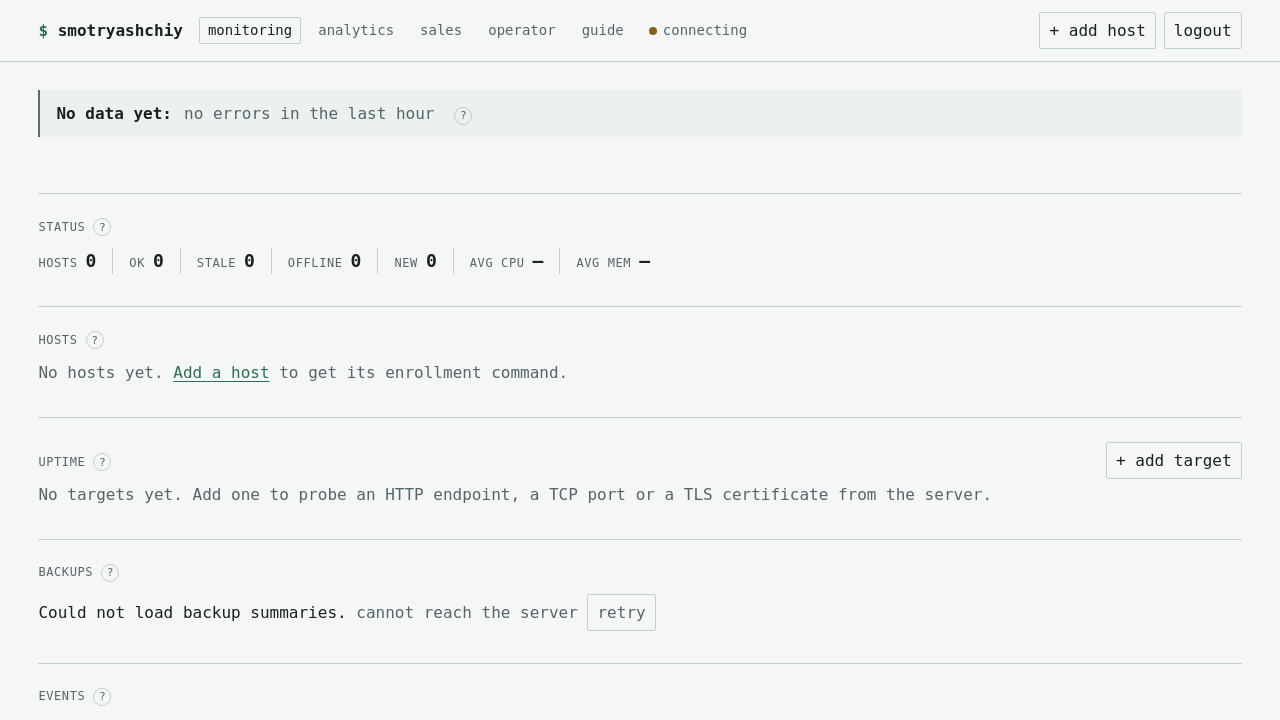
it: AddHostDialog › shows a specific error for a duplicate name and lets the operator retry
The width and height of the screenshot is (1280, 720).
Click the button "+ add host": (1098, 31) [1040,12,1156,49]
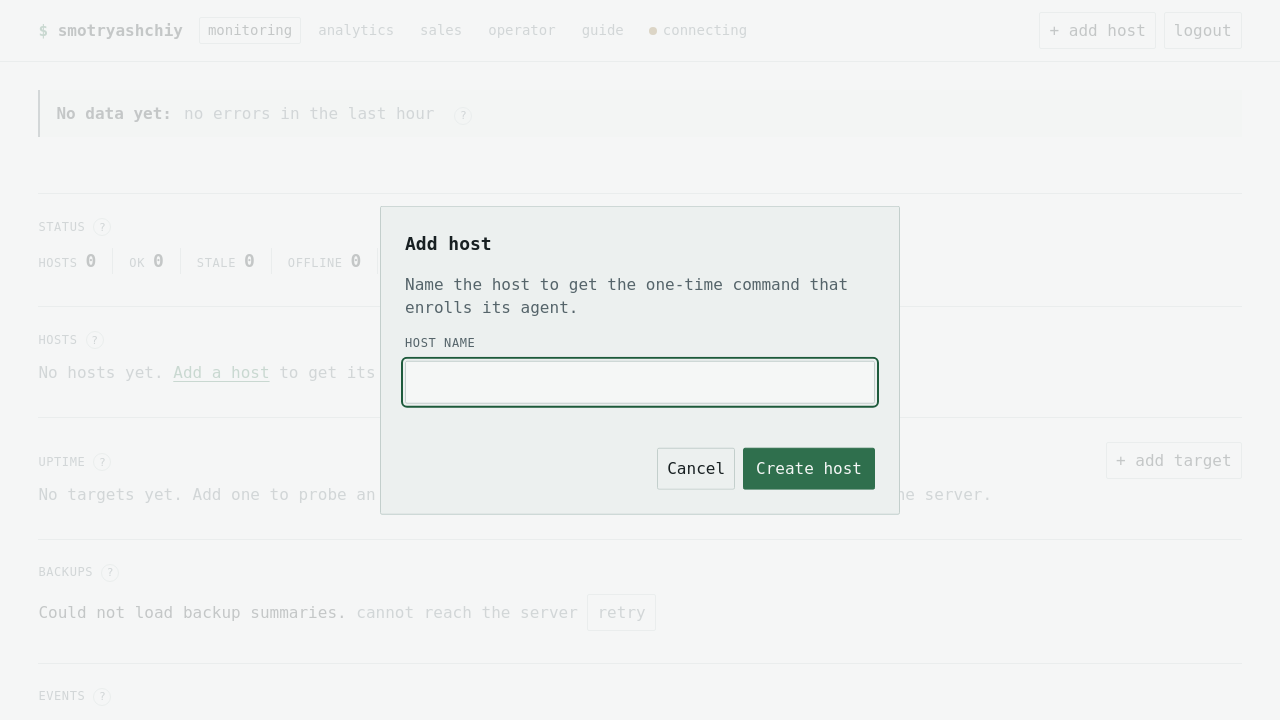
In the field labelled "Host name": (640, 382) [405,361,875,404], type "web-1"
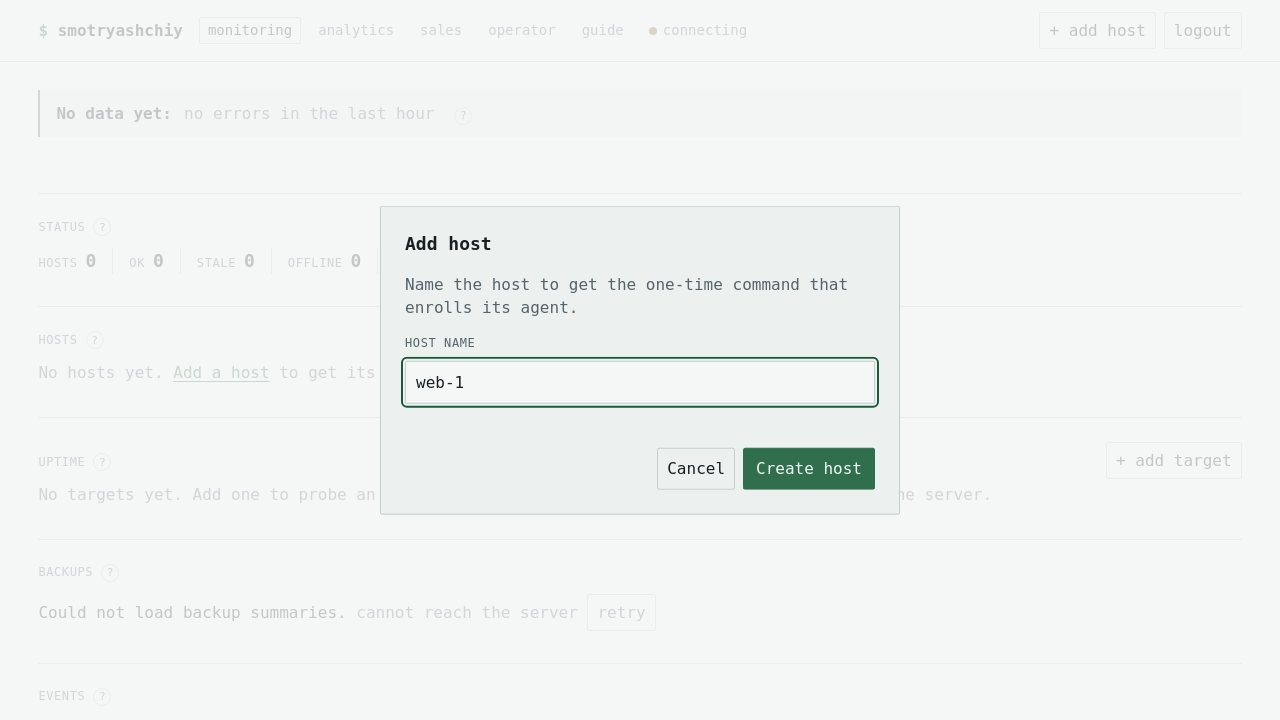
Click the button "Create host": (809, 469) [743,448,875,489]
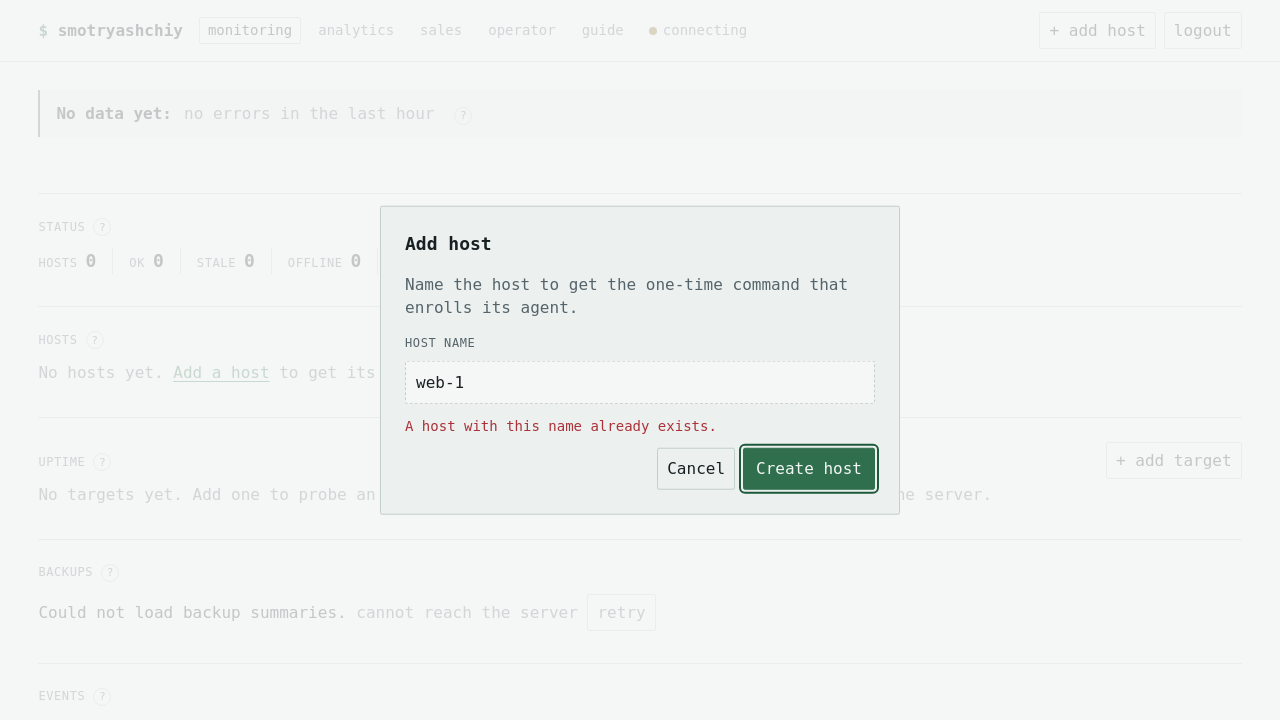
expect the message reads "A host with this name already exists.": met, box [405,418,717,434]
Click the button "Create host": (809, 469) [743,448,875,489]
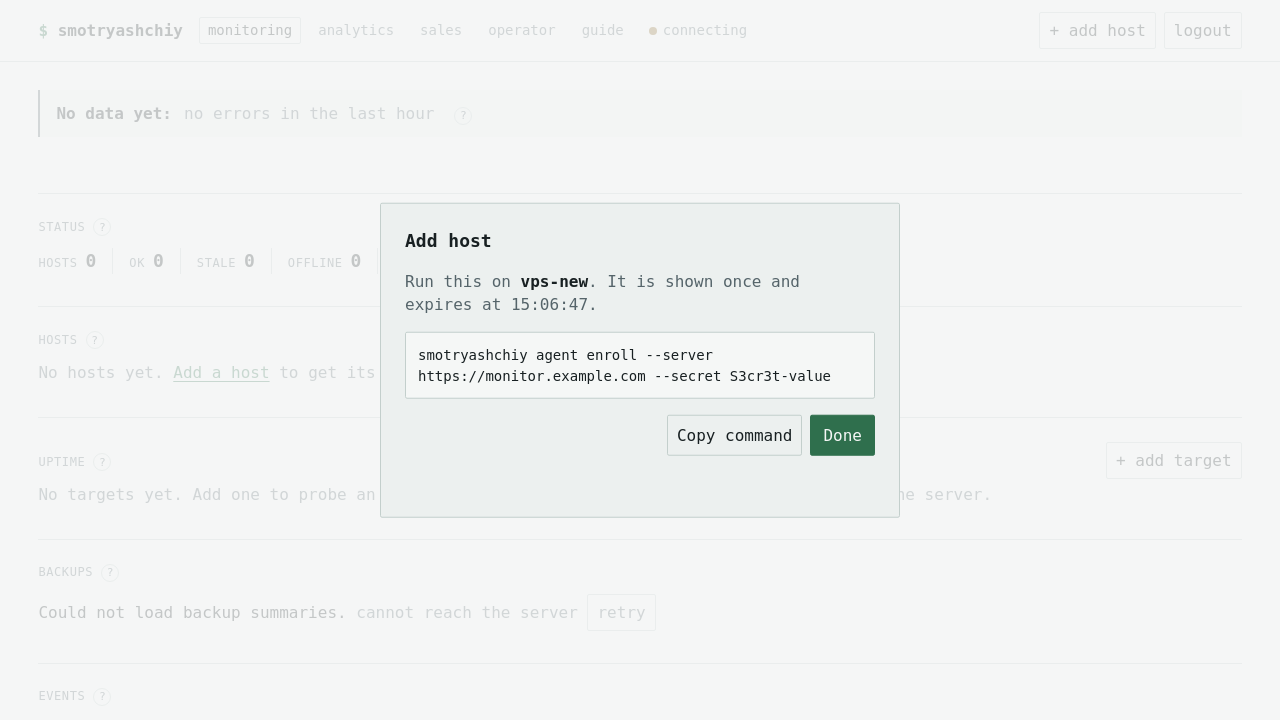
expect the element named "Enrollment command" is shown: met, box [405,332,875,399]
